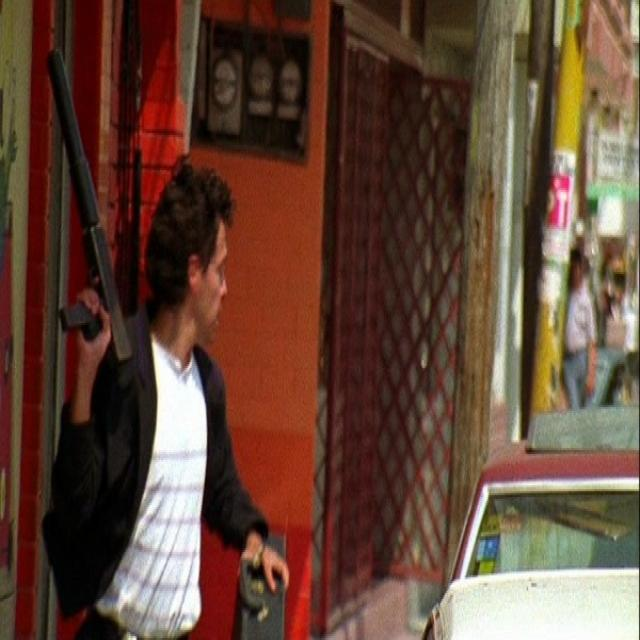rifle: (44, 47, 137, 379)
